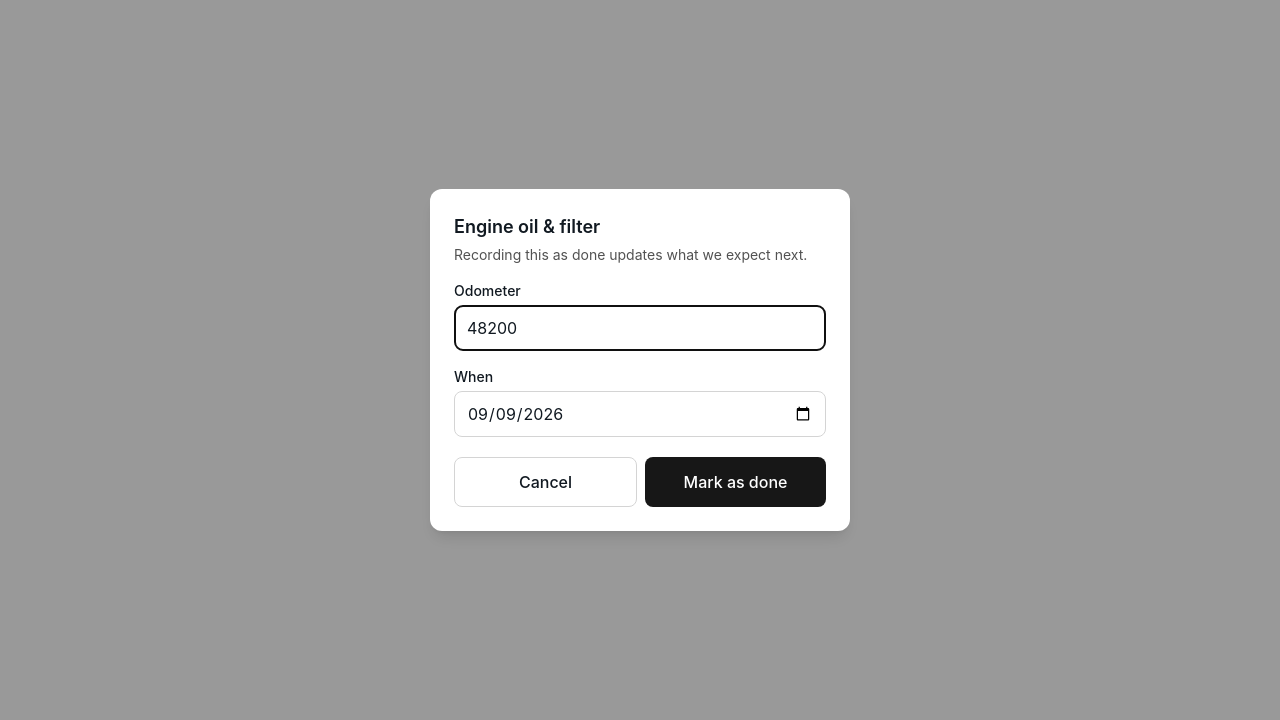
Test: MarkDoneSheet › stays open with the values intact when saving fails
Replace the text in the field labelled "Odometer" with "53000" at [640, 328], box left=454, top=305, right=826, bottom=351
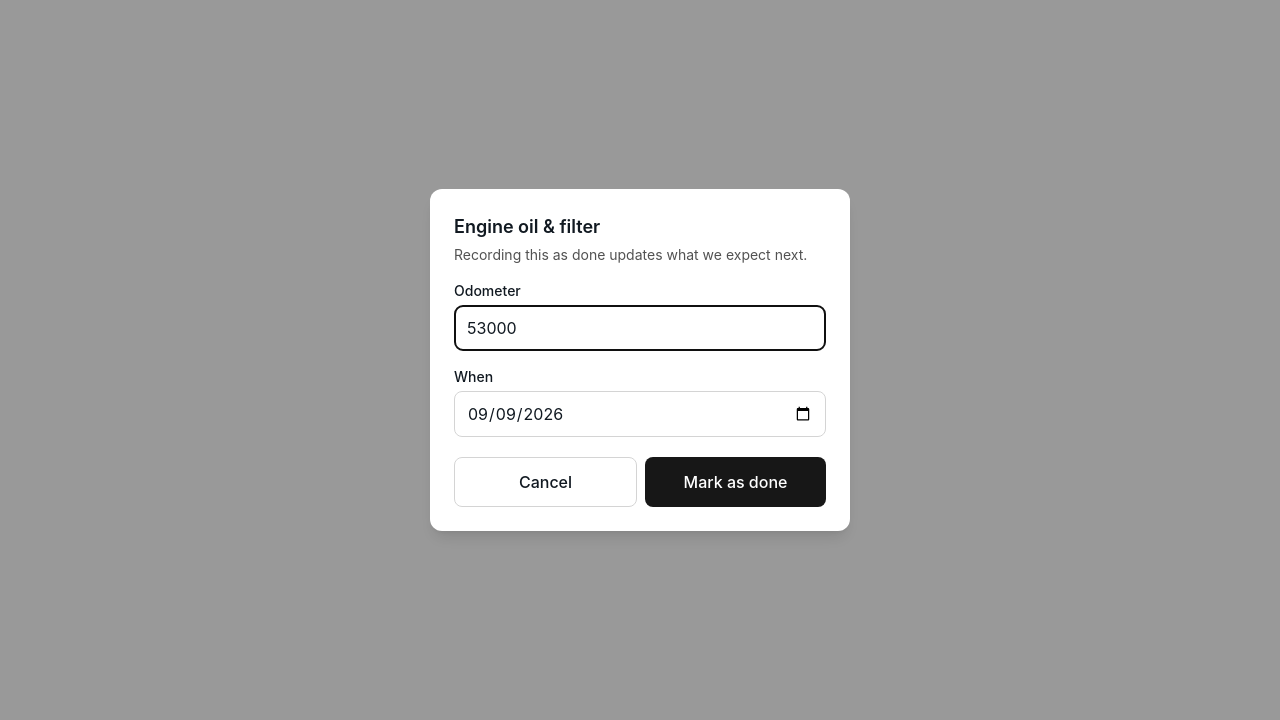
Click the button "Mark as done" at [736, 482], box left=645, top=457, right=826, bottom=507
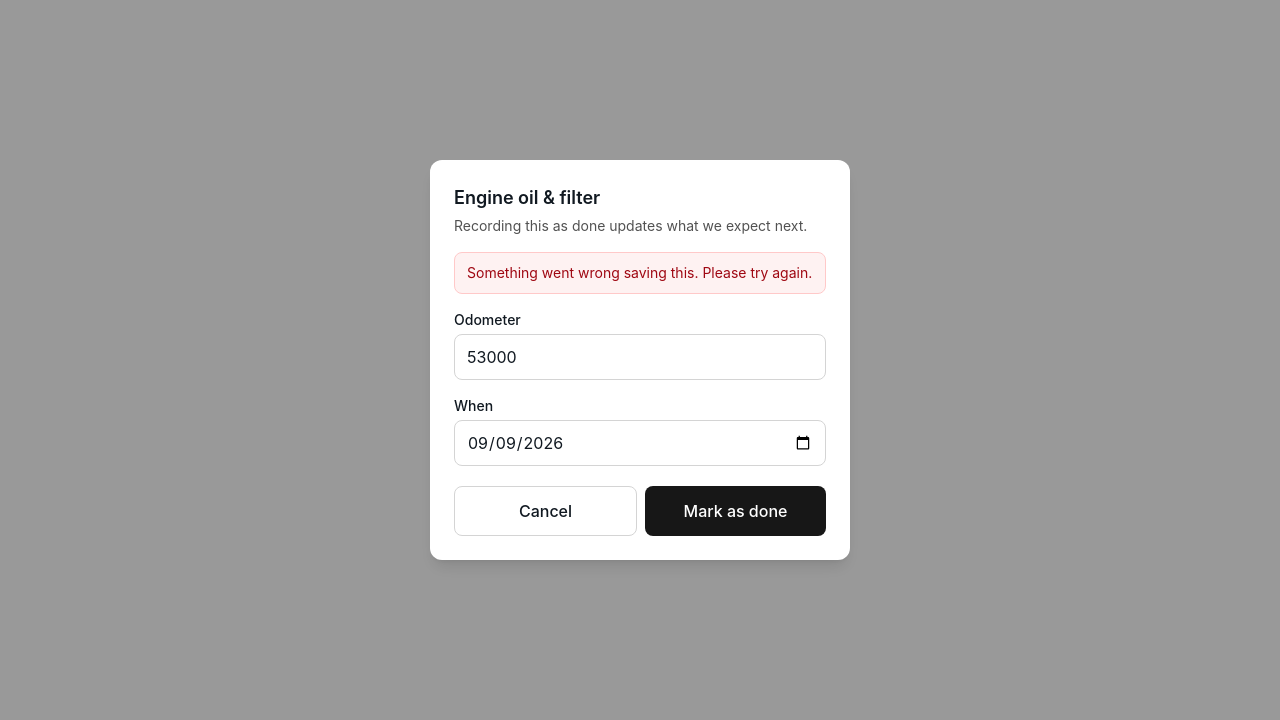
Expected: the text "Something went wrong saving this. Please try again." is shown, left=454, top=252, right=826, bottom=294
